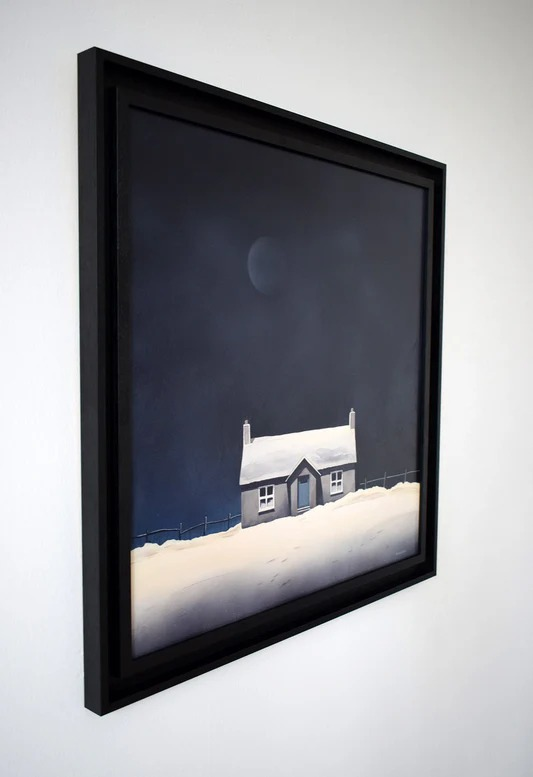painting: (78, 46, 446, 717)
